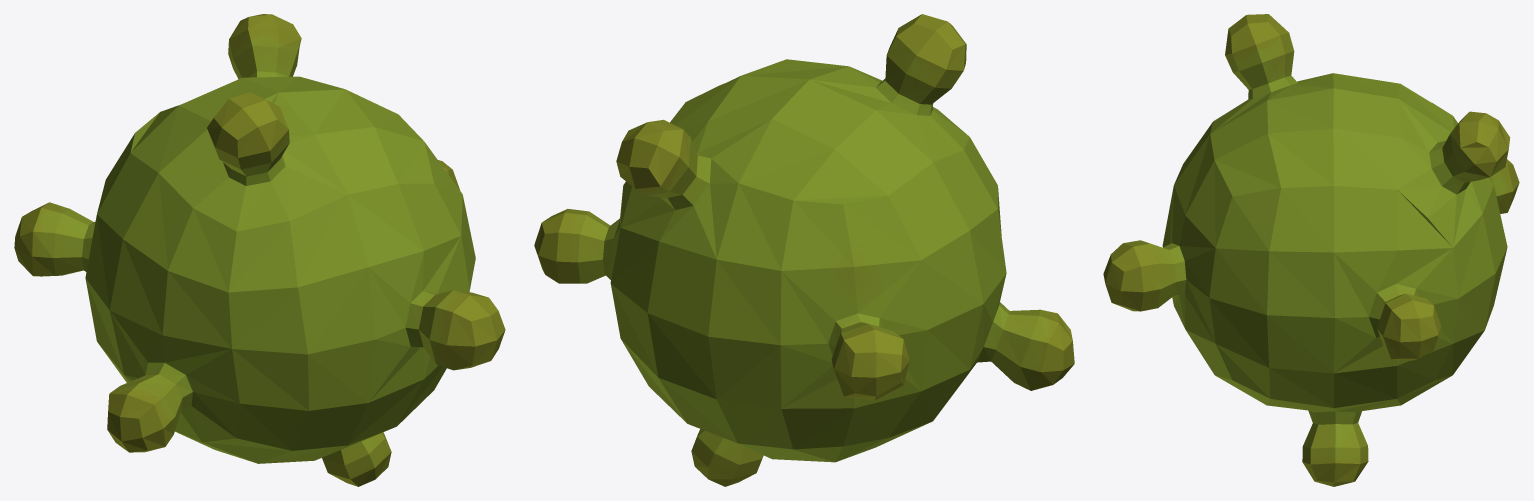
File: covid.glb
3 views of the same model, side by side, from view 1: azimuth 30°, elevation 25°; view 2: azimuth 150°, elevation 25°; view 3: azimuth 270°, elevation 25° (orthographic). The views are drawn at different scales.
Size of the model in its own units: 0.068 by 0.0684 by 0.0644.
1 material, 1 textured.
